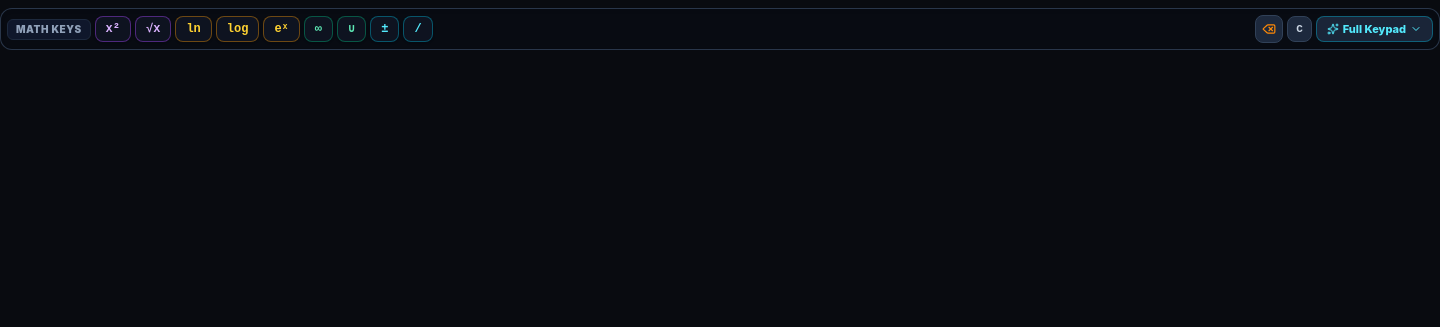
MathKeypad › toggles expanded keypad when sparkle button is clicked
Expected: the text "Symbol Insertion Dock" is not shown
// Click to expand
Click the button "Full Keypad". click: [1374, 29]
box: [1316,16,1433,42]
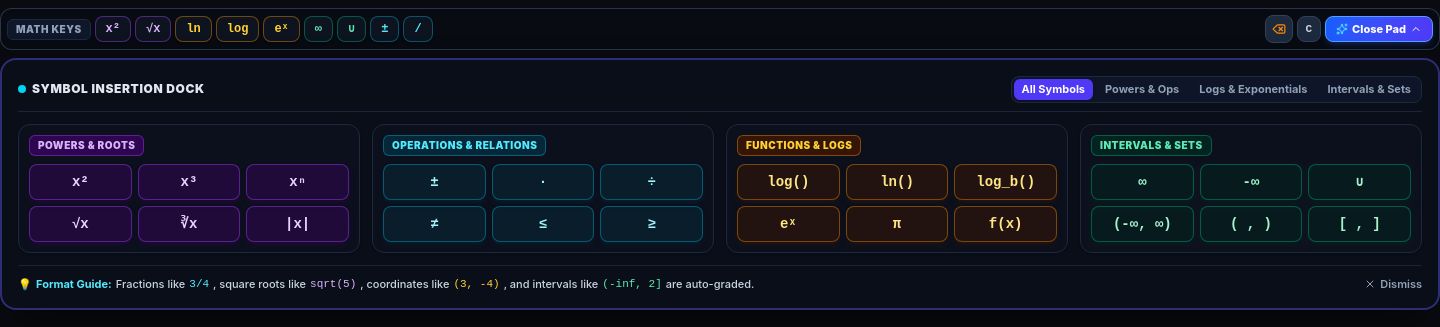
Expected: the text "Symbol Insertion Dock" is shown, [18,81,205,97]
Expected: the text "Close Pad" is shown, [1352,21,1406,37]
// Click to collapse
Click the button "Close Pad". click: [1379, 29]
box: [1325,16,1433,42]
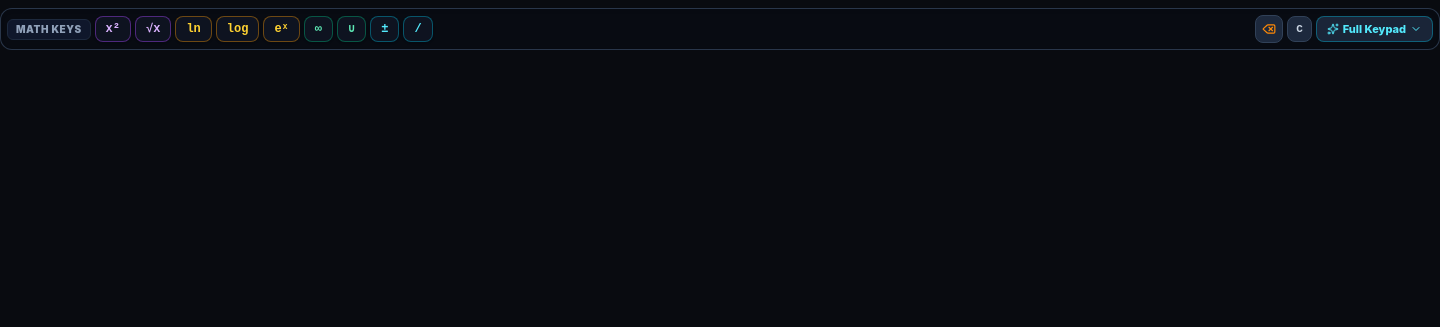
Expected: the text "Symbol Insertion Dock" is gone
